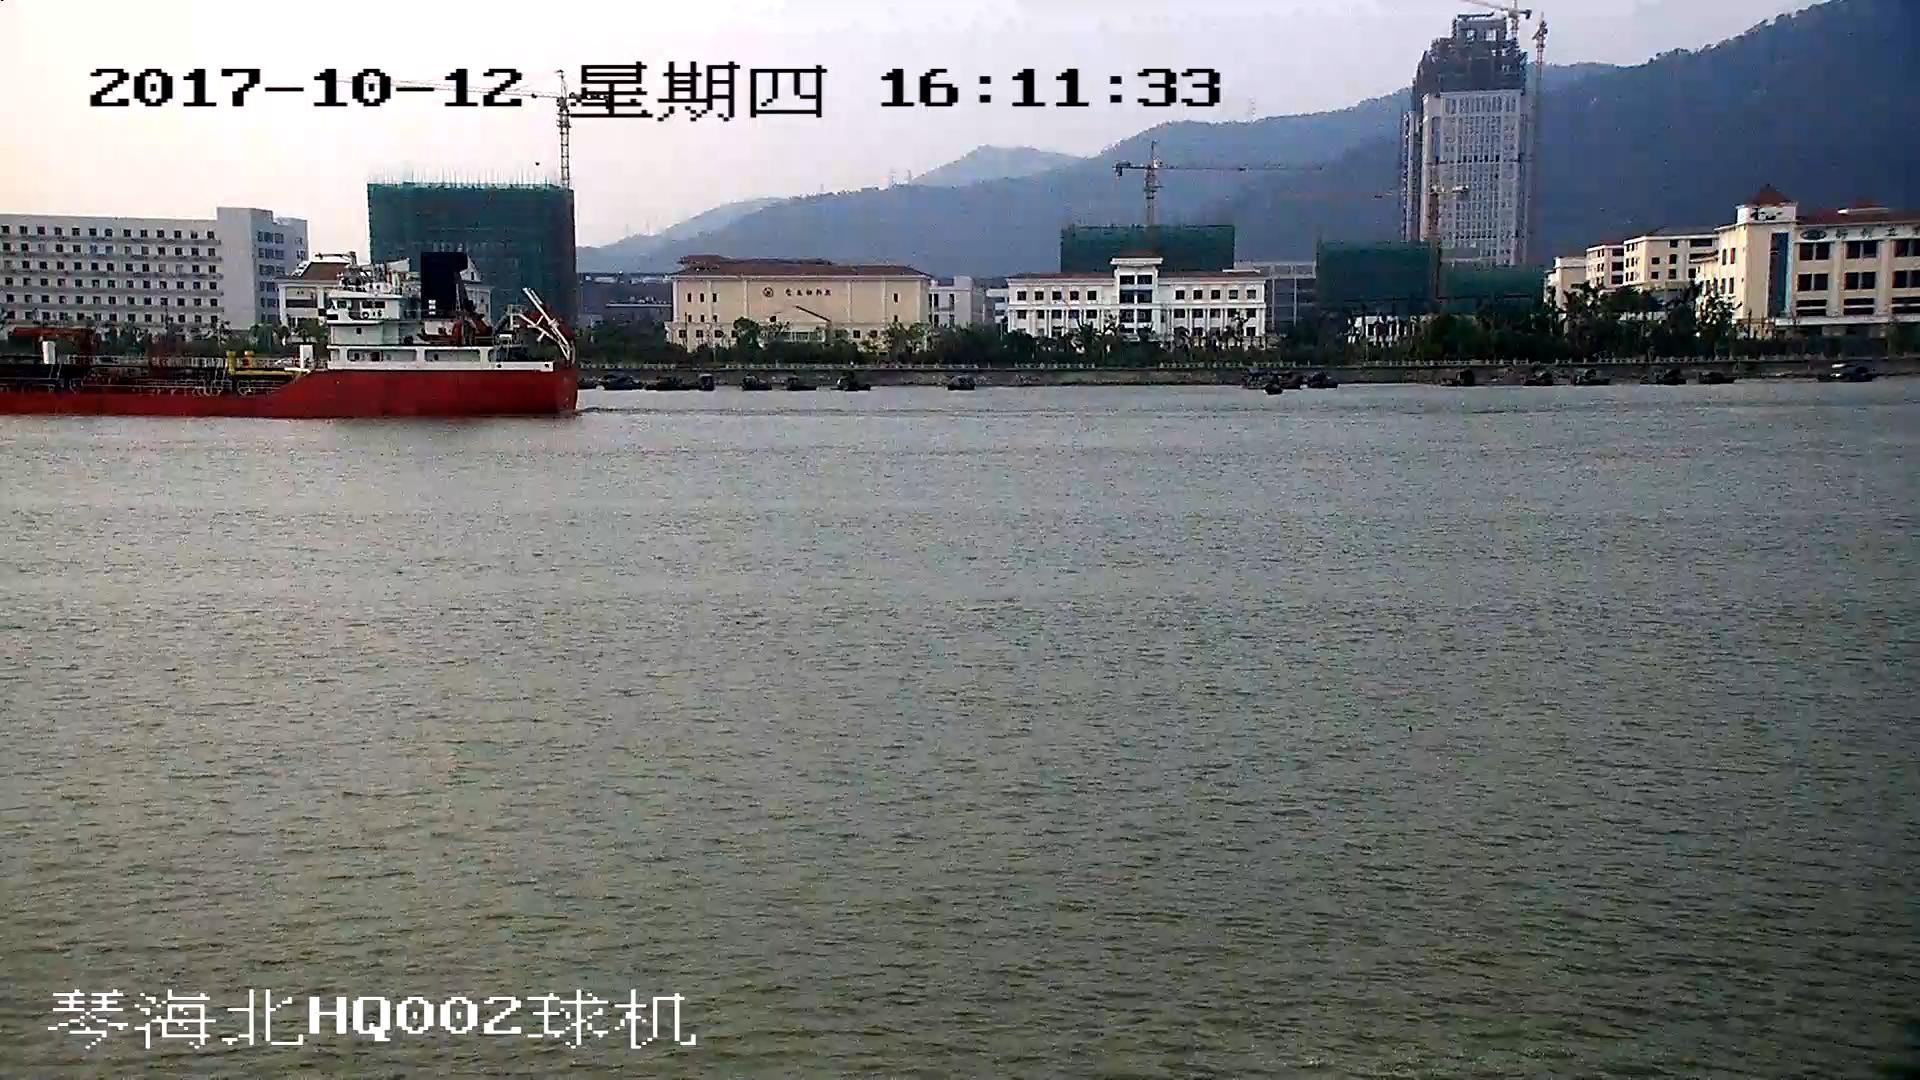general cargo ship: (1, 249, 578, 418)
